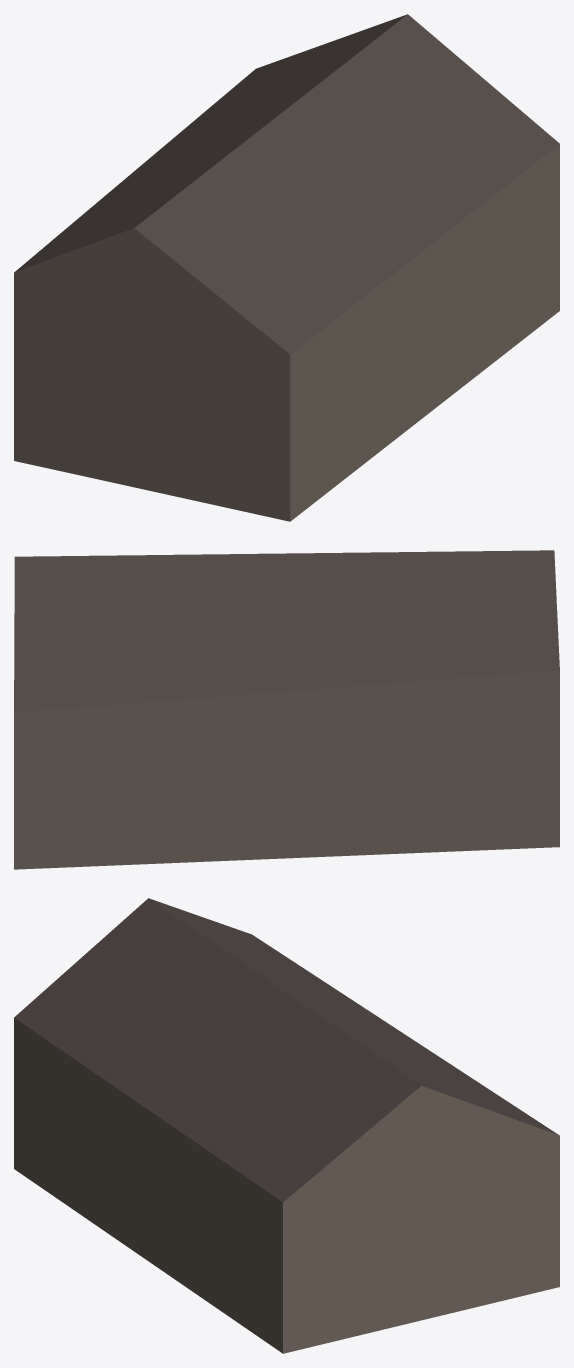
3 renders of one model, top to bottom at view 1: azimuth 30°, elevation 25°; view 2: azimuth 150°, elevation 25°; view 3: azimuth 270°, elevation 25°, orthographic. The views are drawn at different scales.
Parts seen in each view (by area): view 1: HP-w1513026698; view 2: HP-w1513026698; view 3: HP-w1513026698.
Boxes of the visible parts, bbox=[...] form: HP-w1513026698: bbox=[14, 14, 559, 521]; HP-w1513026698: bbox=[14, 550, 559, 869]; HP-w1513026698: bbox=[14, 898, 559, 1353].
Size of the model in its own units: 21.15 by 9.3 by 19.61.
